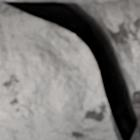brick: (133, 91, 139, 139), (61, 0, 121, 4)
crack: (2, 0, 138, 139)
